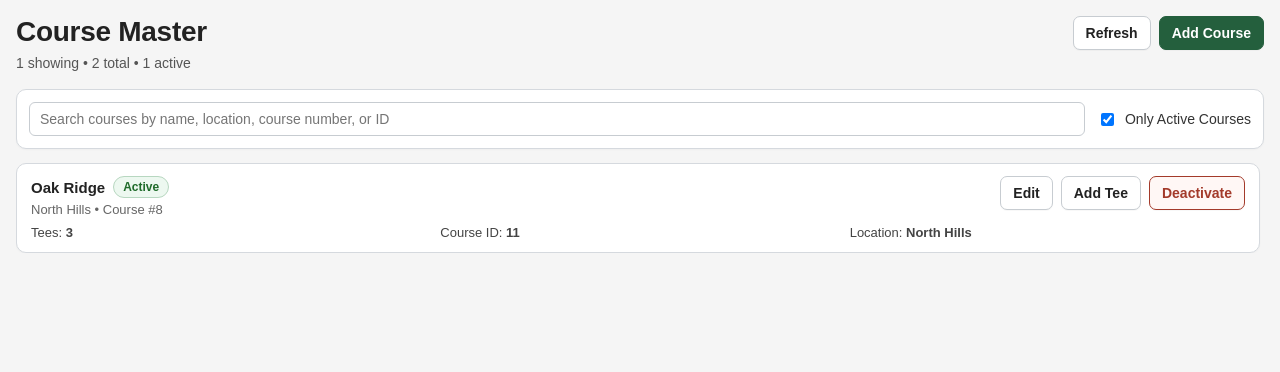
Test case: Course master list characterization (before extraction) › filters by name and location without regard to letter case or surrounding whitespace
Expected: the text "Oak Ridge" is shown, [31,179,105,196]
Click the checkbox labelled "Only Active Courses" at (1107, 119), box [1101,113,1114,126]
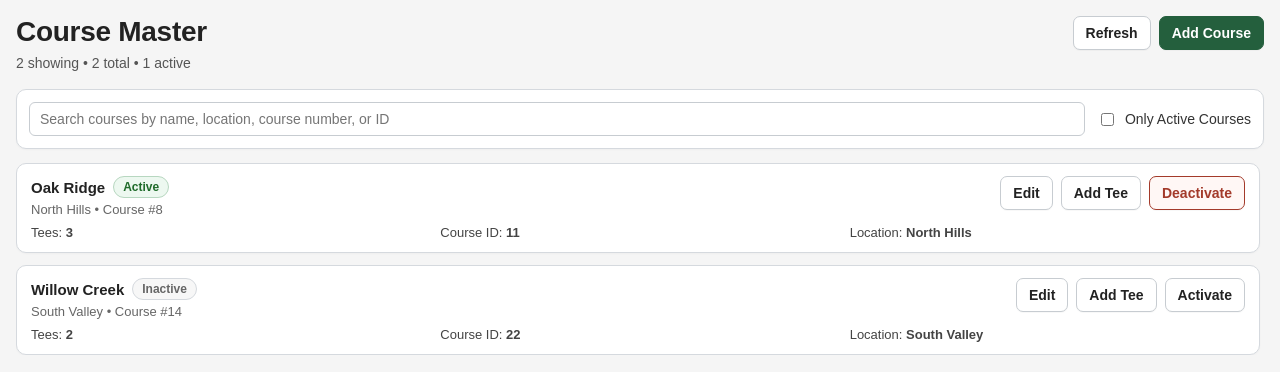
Type "  sOuTh vAlLeY  " into the field with placeholder "Search courses by name, location, course number, or ID" at (557, 119), box [29,102,1085,136]
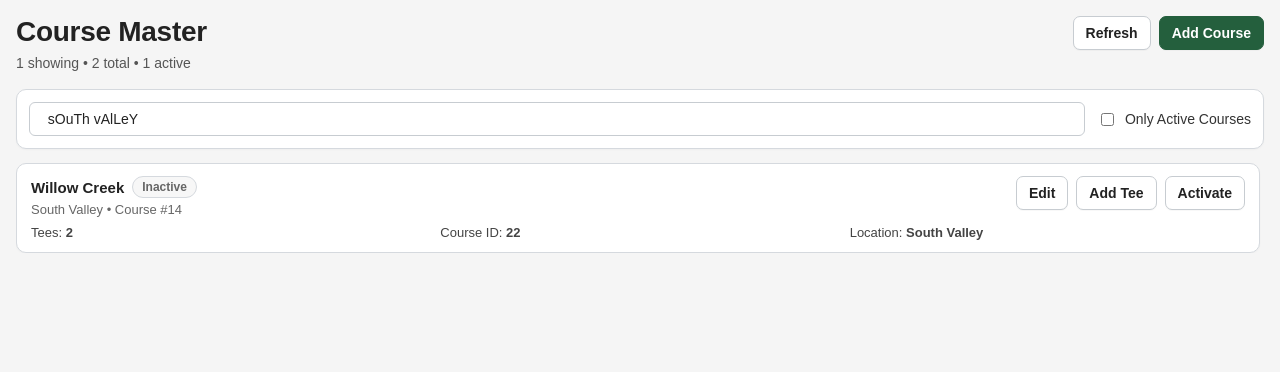
Now the text "Willow Creek" is shown, box [31,179,124,196]
Now the text "Oak Ridge" is gone
Now the text "1 showing • 2 total • 1 active" is shown, box [16,55,191,71]
